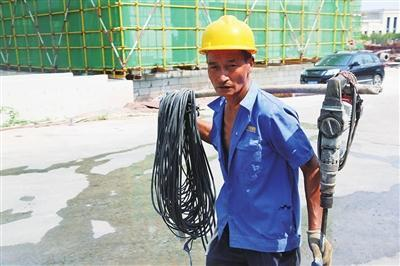helmet: (199, 15, 259, 55)
